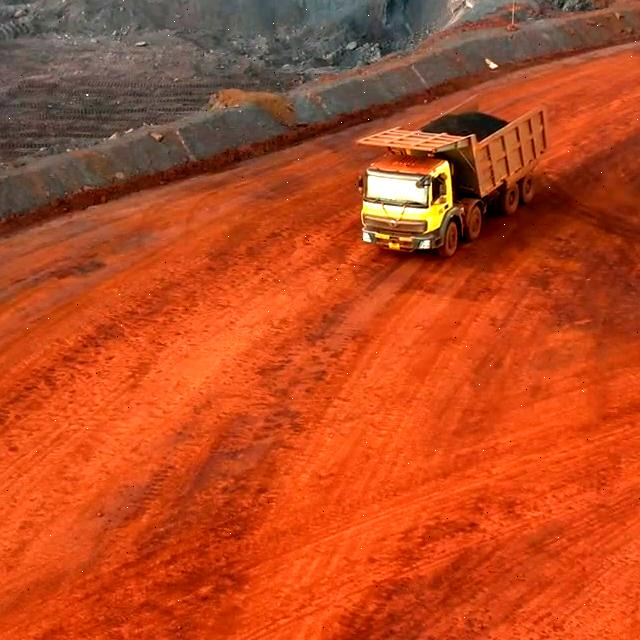Dumper truck: (358, 113, 544, 251)
